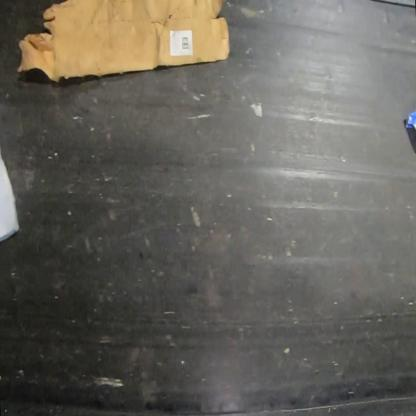cardboard: (17, 0, 231, 84)
soft_plastic: (0, 154, 20, 242)
